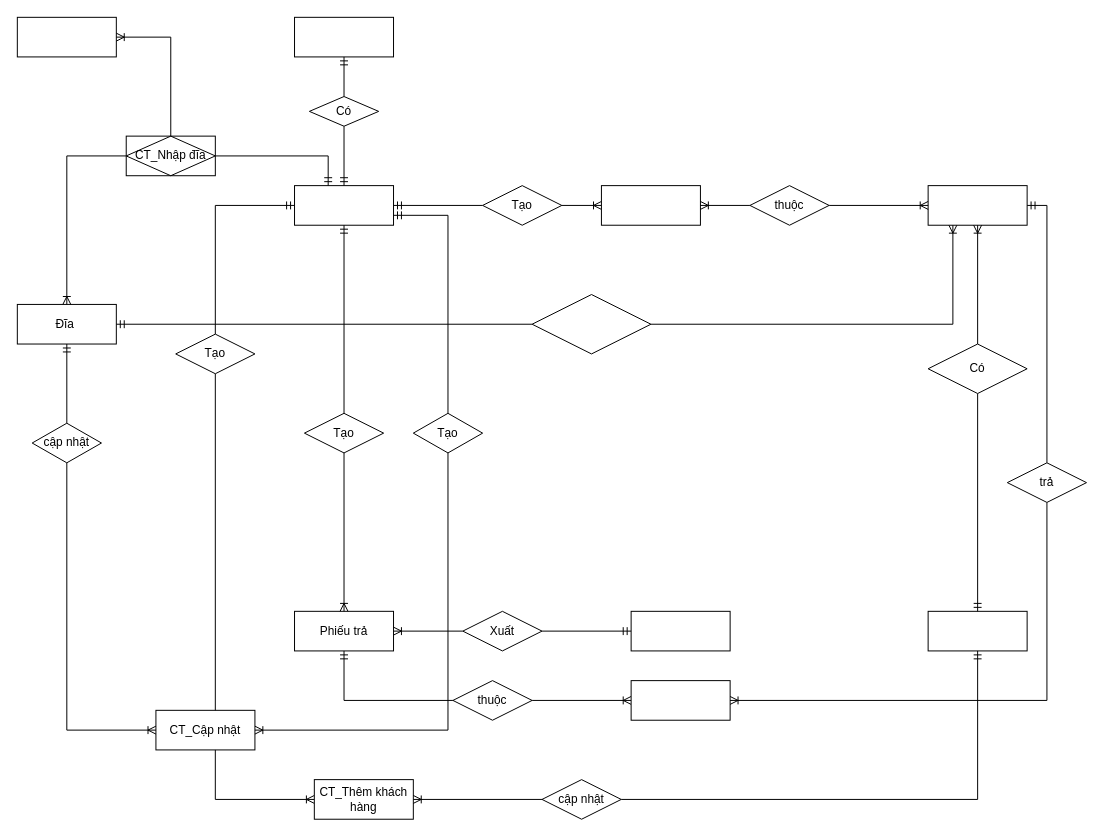
This 1104x837 diagram has some shape labels left out. The centre of each missing label's shape, as x and y in pixels:
CT_Phiếu thuê: [650,205]
CT_Phiếu trả: [680,700]
Hóa đơn: [680,630]
Khách hàng: [977,630]
Nhà cung cấp: [66,36]
Nhân Viên: [344,205]
Phiếu thuê: [977,205]
Thêm: [591,324]
Tài khoản: [344,36]
